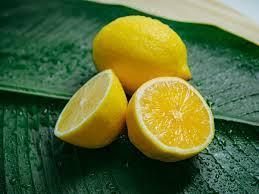lemon: (93, 15, 193, 94), (125, 77, 214, 162), (54, 68, 128, 147)
